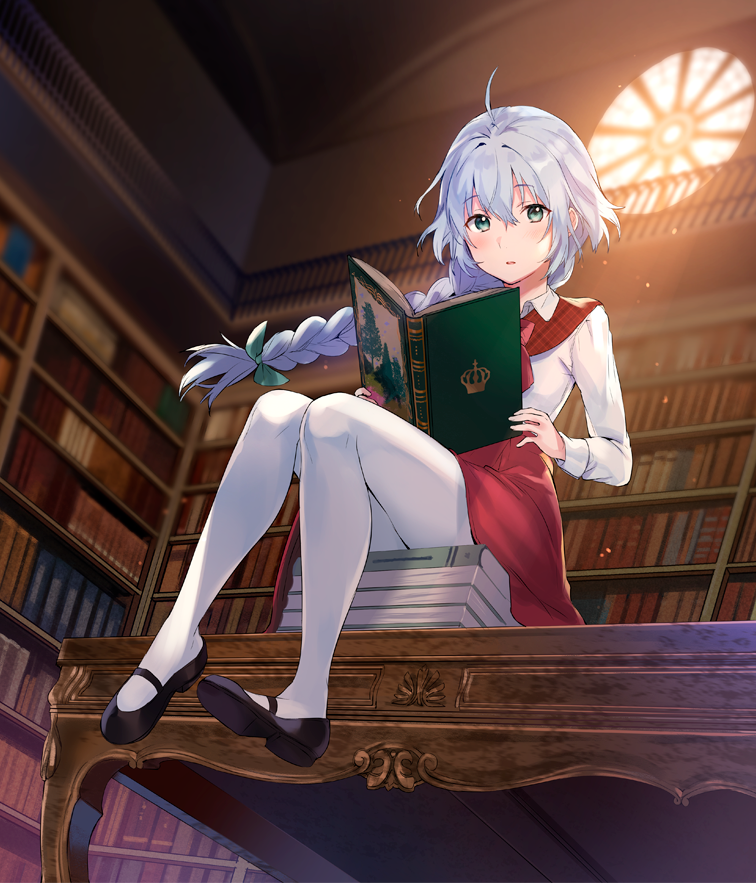纸片人正脸: (422, 89, 607, 295)
